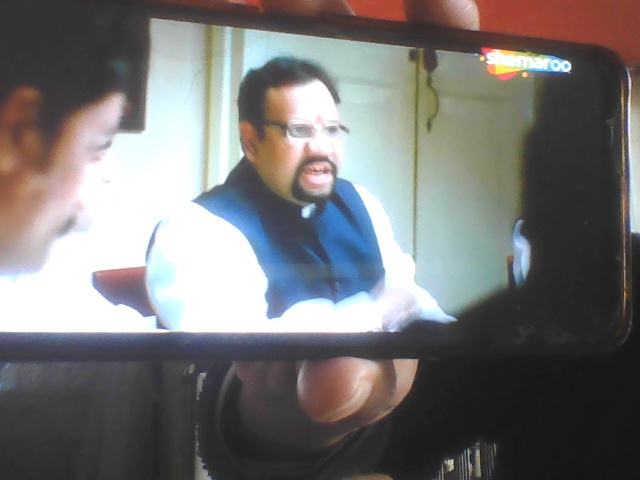fake: (232, 42, 355, 217)
